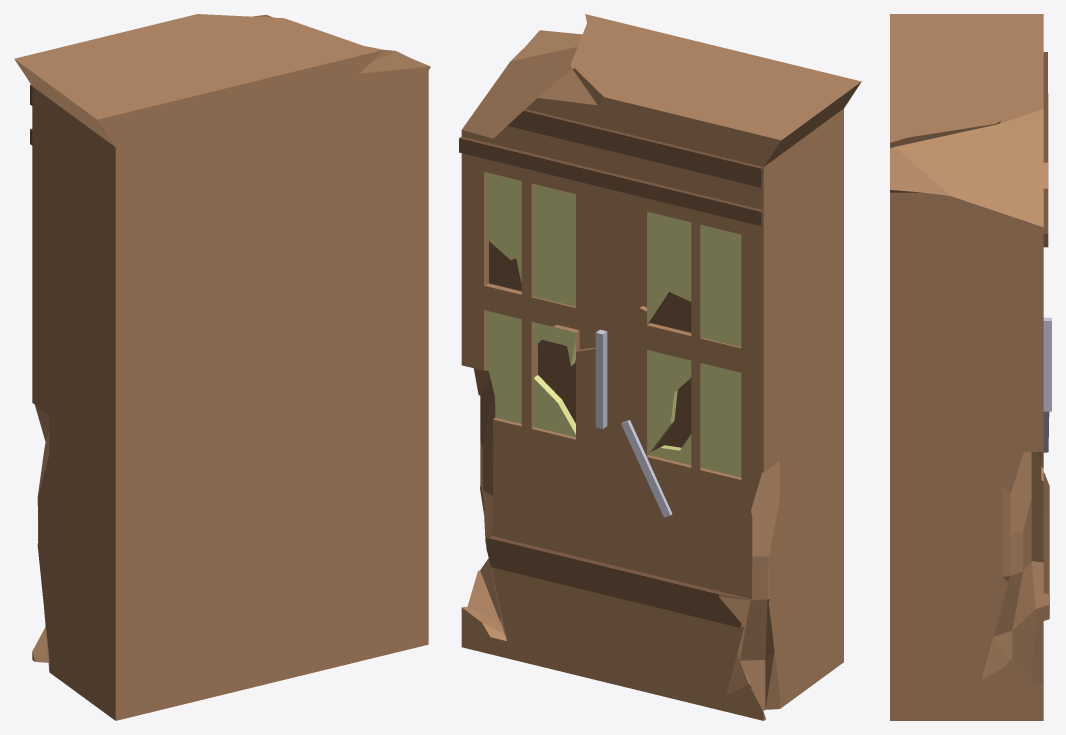
Rendered from Closet.fbx.
3 views of the same model, side by side, from view 1: azimuth 30°, elevation 25°; view 2: azimuth 150°, elevation 25°; view 3: azimuth 270°, elevation 25° (orthographic). The views are drawn at different scales.
Visible parts, largest first — view 1: Closet; view 2: Closet; view 3: Closet.
Part boxes in pixels (x1,y1,x2,y2): Closet: [14, 14, 430, 720]; Closet: [459, 14, 861, 720]; Closet: [890, 14, 1051, 720].
Bounding box in the file's own units: 40.73 × 155 × 89.27.
